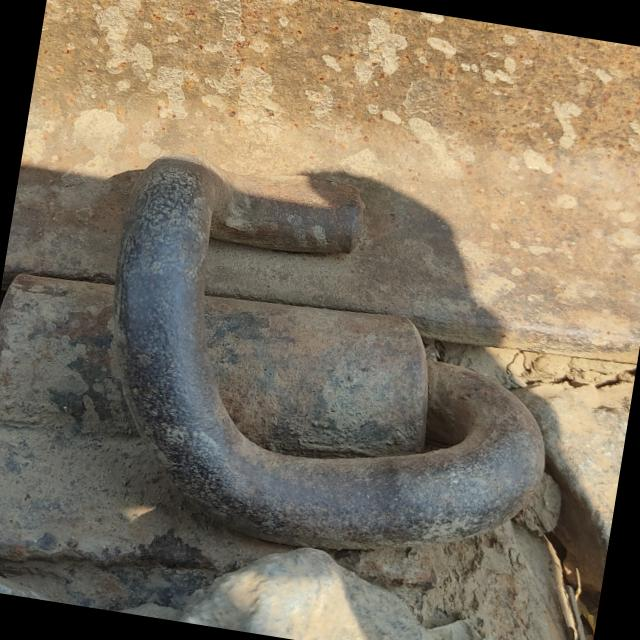track_bolt: (71, 142, 590, 588)
